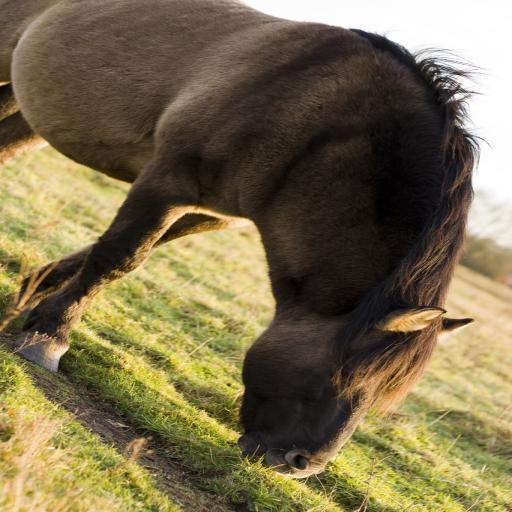Horse: (0, 0, 493, 481)
